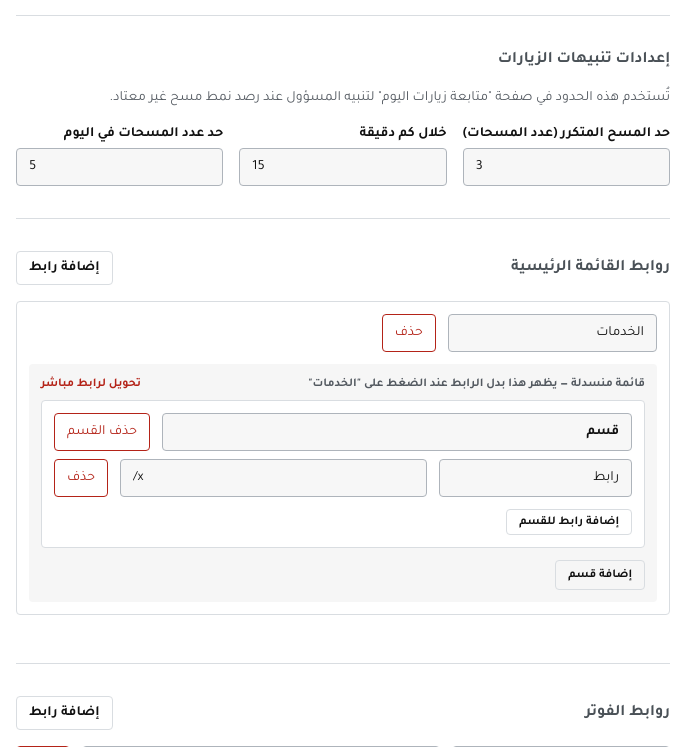
Scenario: SettingsPage › converts a dropdown nav item back to a plain link
(page scrolled)
Expected: the 2nd field with placeholder "عنوان القسم" is shown, x1=162 y1=413 x2=632 y2=451
What coordinates should you click on to do the following:
click the button "تحويل لرابط مباشر"
I would click on:
 (91, 384)
Its box is x1=41 y1=376 x2=141 y2=392.
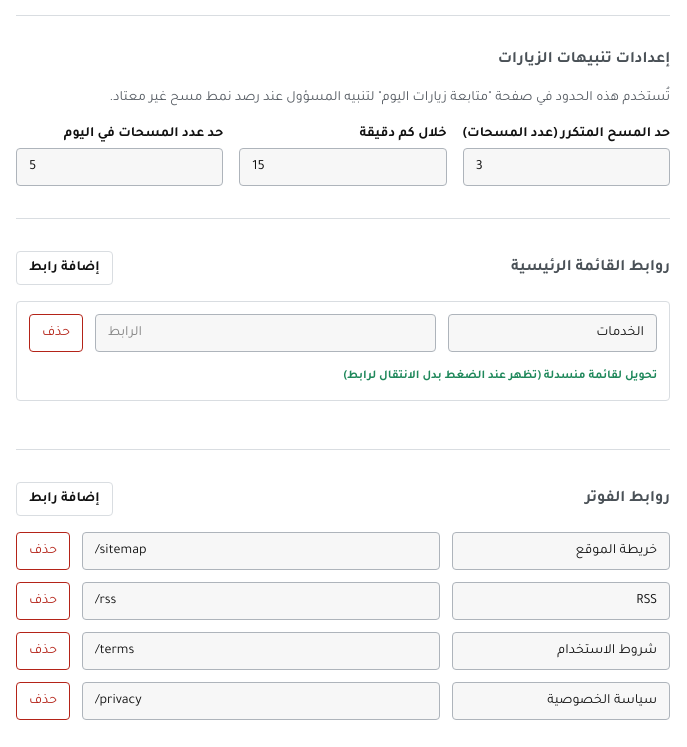
Expected: the field with placeholder "الرابط" is shown, x1=95 y1=314 x2=436 y2=352
